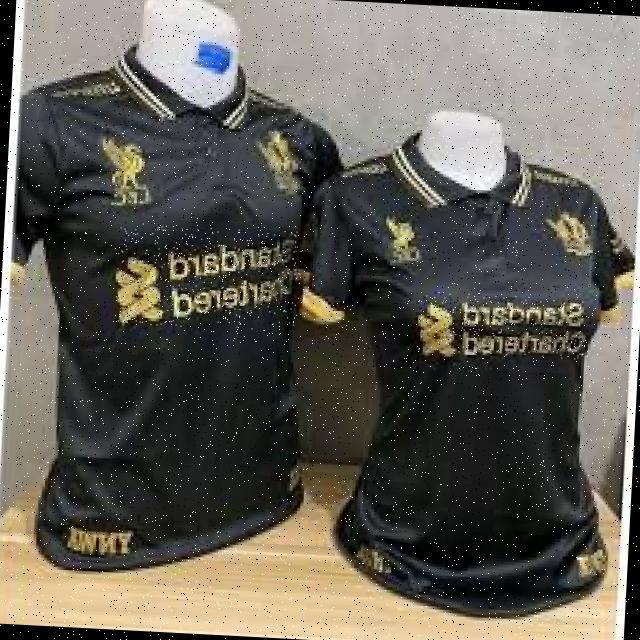Standard Chartered: (115, 223, 303, 333), (416, 291, 589, 360)
